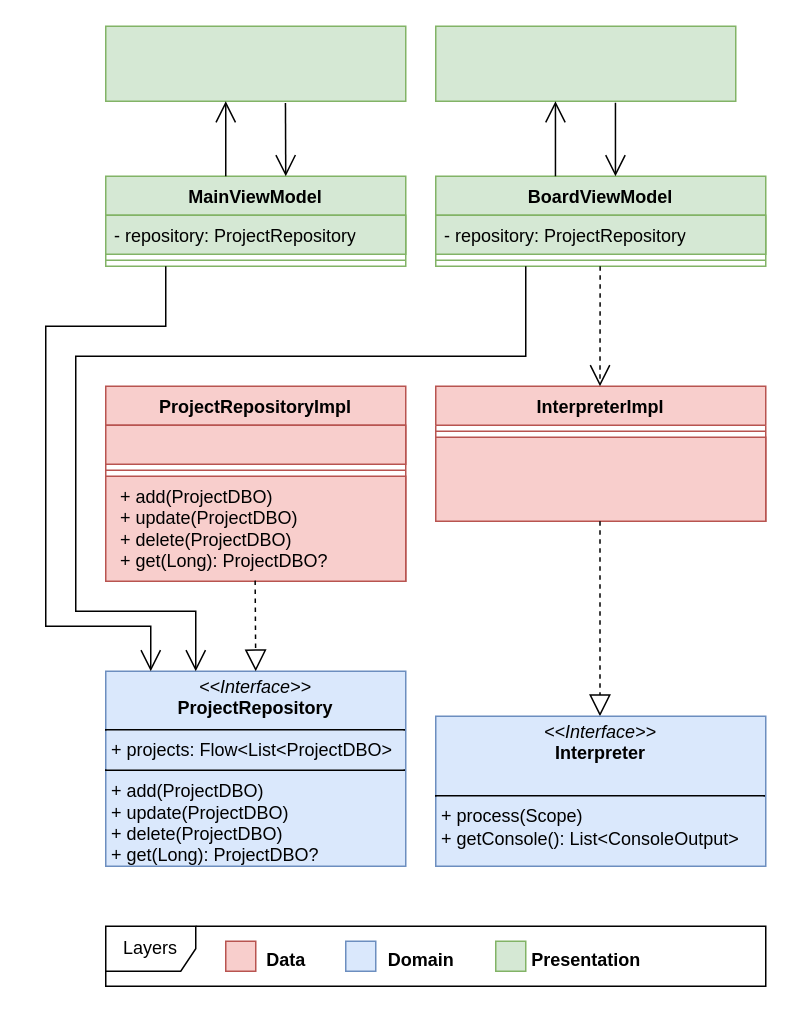
Image size: 792x1013. Some labels were removed from this diagram. The shapes that lost their labels are listed below. From the top down, each one's centre as x and y in pixels, then its label:
At (x=255, y=63): "MainScreenUI".
At (x=585, y=63): "BoardScreen".
At (x=255, y=444): "+ projects: Flow<List<ProjectDBO>".
At (x=600, y=478): "+ process(Scope) + getConsole( ): List<ConsoleOutput>".
